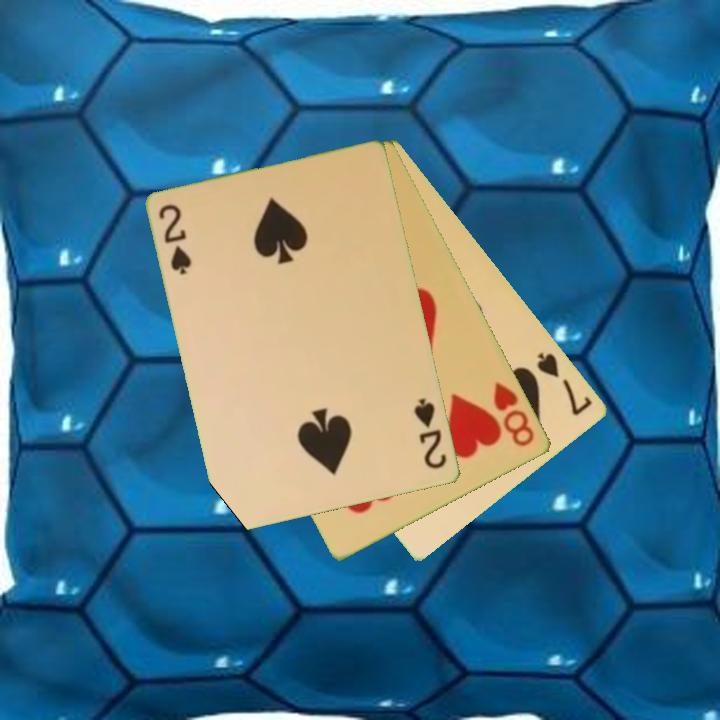2s: (155, 201, 195, 278), (411, 394, 450, 472)
7s: (533, 349, 596, 419)
8h: (490, 379, 538, 450)
